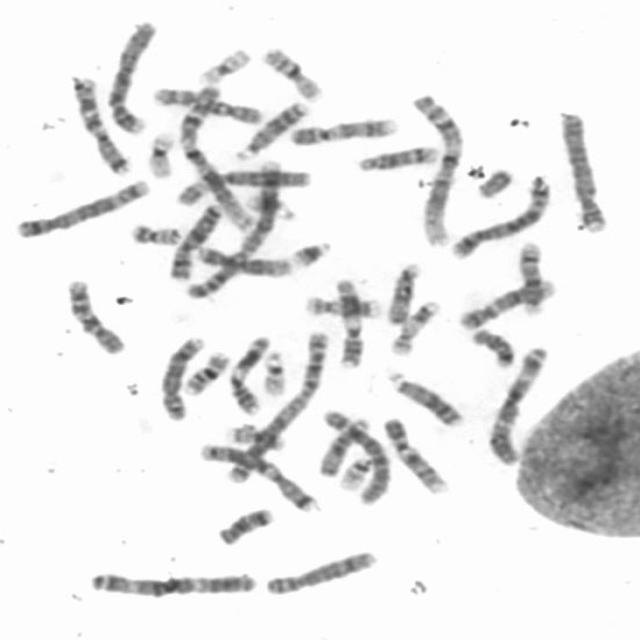A1: (177, 84, 258, 232), (409, 94, 465, 248)
A2: (225, 329, 330, 484), (183, 158, 286, 300)
A3: (486, 347, 548, 468), (91, 571, 258, 600)
B4: (558, 110, 608, 234), (105, 21, 156, 134)
B5: (449, 176, 551, 261), (15, 178, 152, 238)
C10: (66, 279, 130, 358), (152, 87, 264, 125)
C11: (228, 336, 270, 418), (336, 278, 365, 368)
C12: (458, 278, 557, 332), (196, 244, 291, 278)
C6: (322, 410, 392, 507), (176, 168, 314, 208)
C7: (198, 442, 317, 512), (69, 79, 132, 174)
C8: (264, 550, 376, 596), (159, 335, 205, 421)
C9: (381, 417, 451, 493), (289, 117, 398, 147)
D13: (233, 100, 309, 163), (384, 371, 468, 426)
D14: (355, 143, 442, 172), (518, 240, 546, 312)
D15: (316, 417, 368, 479), (384, 259, 422, 326)
E16: (261, 46, 327, 104), (182, 350, 233, 397)
E17: (388, 298, 442, 357), (303, 294, 381, 320)
E18: (216, 506, 274, 546), (470, 326, 515, 368)
F19: (197, 49, 251, 86), (146, 131, 176, 181)
F20: (230, 424, 286, 450), (130, 223, 182, 247)
G21: (247, 192, 297, 222), (290, 240, 336, 268)
G22: (337, 456, 373, 493), (261, 350, 287, 398)
X: (166, 203, 222, 282)
Y: (476, 168, 513, 200)
